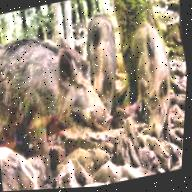boar: (0, 17, 125, 176), (115, 11, 191, 152), (76, 12, 134, 122)
